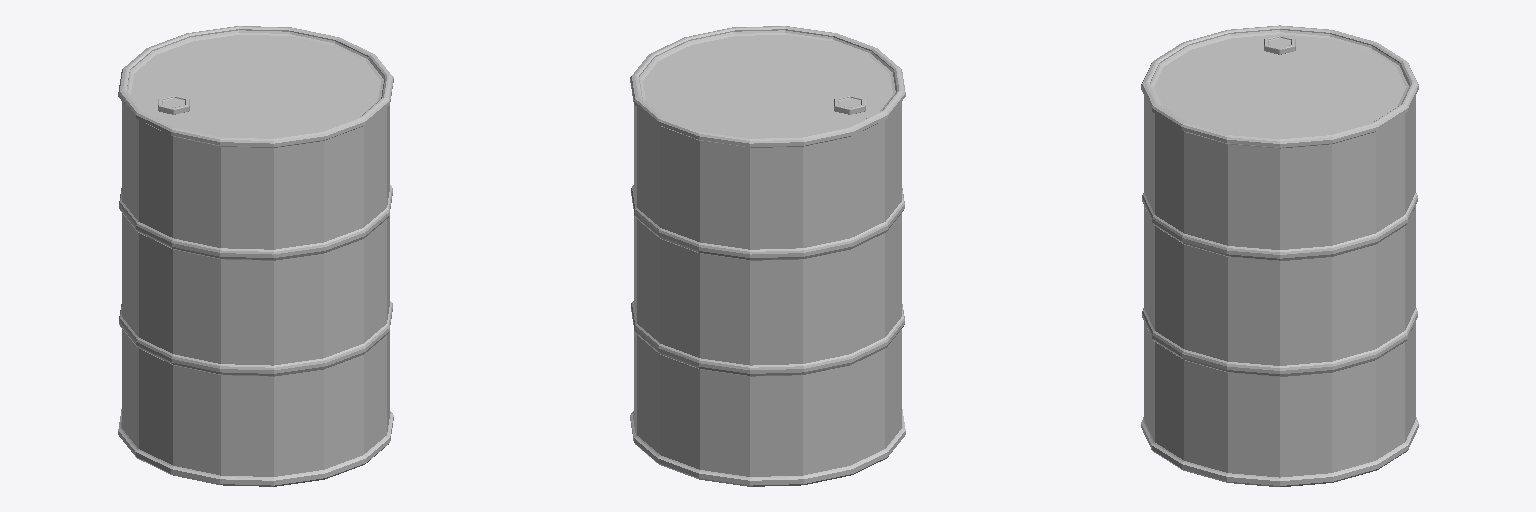
The model's file is Oil.obj.
The picture shows the model from 3 angles: view 1: azimuth 30°, elevation 25°; view 2: azimuth 150°, elevation 25°; view 3: azimuth 270°, elevation 25°; orthographic projection.
Parts seen in each view (by area): view 1: cylinder; view 2: cylinder; view 3: cylinder.
Boxes of the visible parts, x1,y1,x2,y2 form: cylinder: [118, 26, 393, 486]; cylinder: [630, 26, 905, 486]; cylinder: [1141, 25, 1418, 486].
Size of the model in its own units: 3.07 by 4.25 by 3.07.